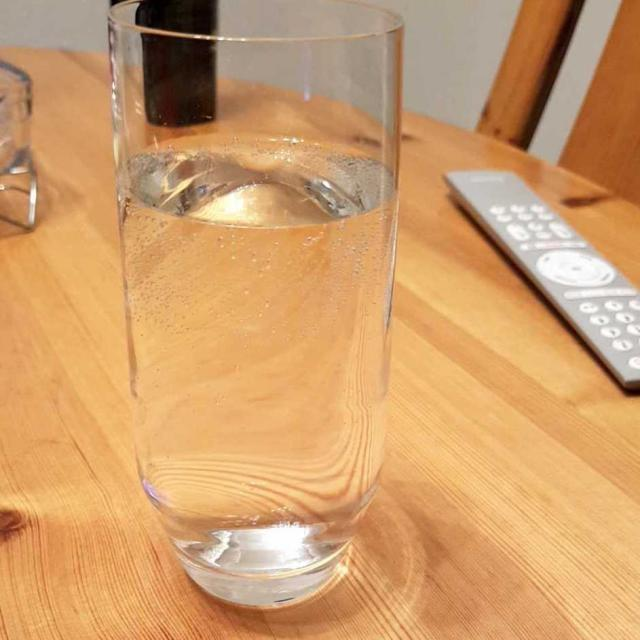water: (122, 139, 395, 573)
